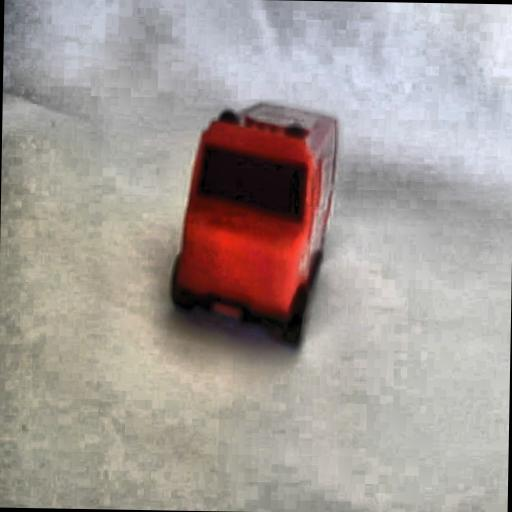fire_truck: (172, 102, 338, 356)
